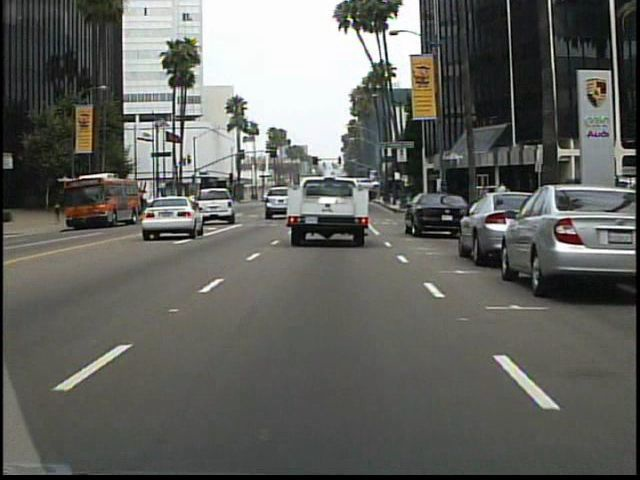person: (493, 179, 511, 219), (54, 194, 67, 225)
